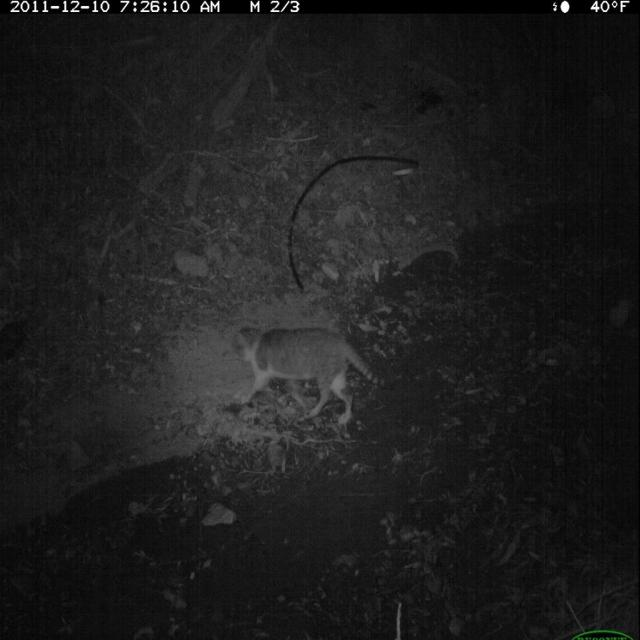cat: (226, 317, 400, 432)
